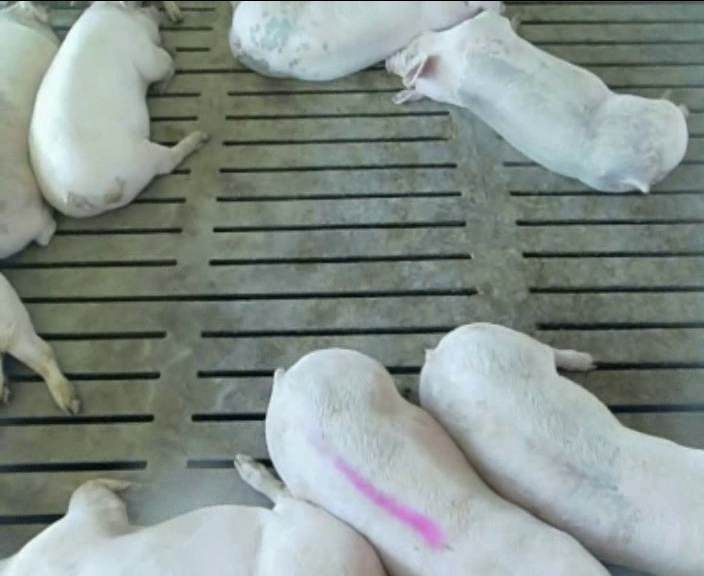pig: (266, 349, 606, 573), (420, 323, 703, 573), (386, 11, 688, 192), (0, 455, 382, 574), (30, 1, 206, 215), (0, 3, 57, 257)
